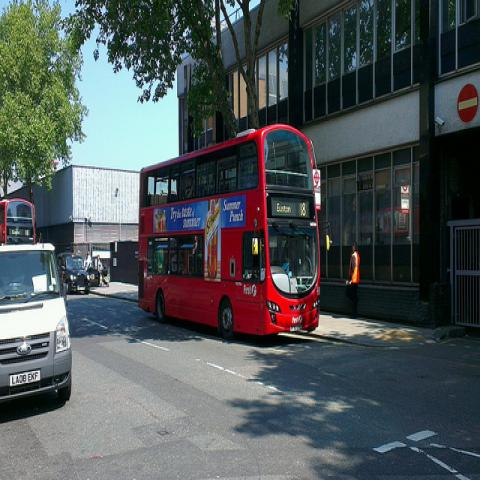bus: (135, 126, 322, 338), (0, 200, 36, 243)
car: (1, 242, 74, 406), (57, 253, 90, 294)
